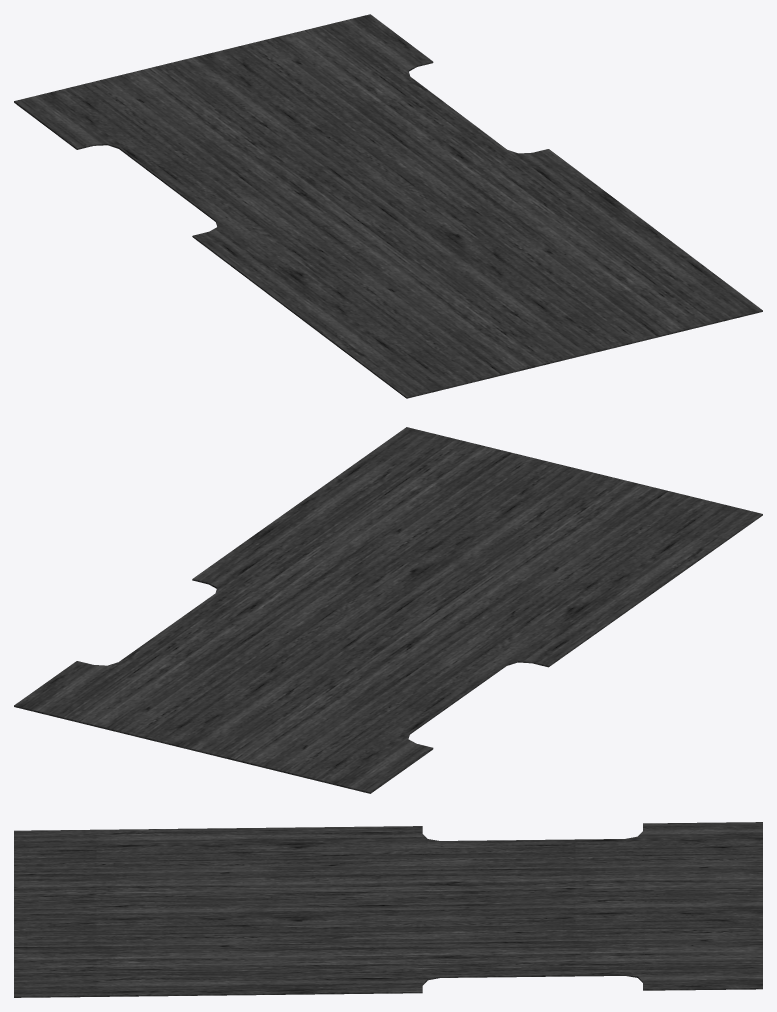
Rendered from flooring-two.glb.
The picture shows the model from 3 angles, top to bottom: view 1: azimuth 30°, elevation 25°; view 2: azimuth 150°, elevation 25°; view 3: azimuth 270°, elevation 25°; orthographic projection. The views are drawn at different scales.
Visible parts, largest first — view 1: Van_body.002; view 2: Van_body.002; view 3: Van_body.002.
Part boxes in pixels (<box>): Van_body.002: <box>14,14,762,398</box>; Van_body.002: <box>14,427,762,793</box>; Van_body.002: <box>14,822,762,997</box>.
Bounding box in the file's own units: 1.71 × 0.0477 × 3.27.
Materials: 1 (1 with a texture image).
